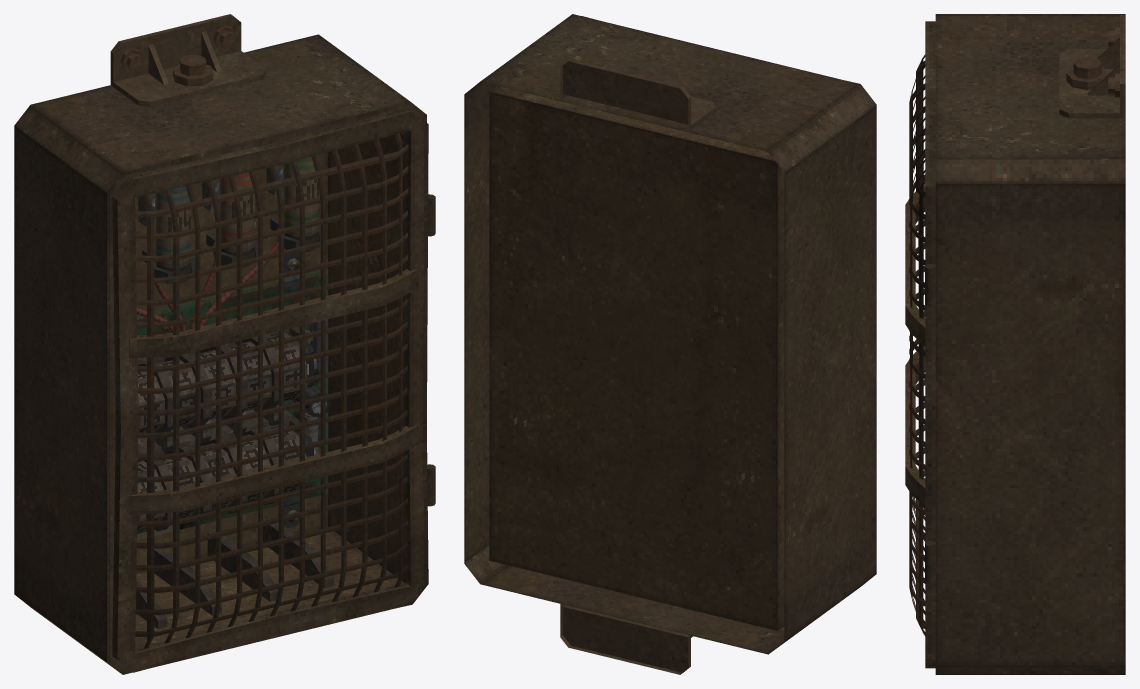
File: fuse_box_etx_1_1.glb
The picture shows the model from 3 angles, left to right: view 1: azimuth 30°, elevation 25°; view 2: azimuth 150°, elevation 25°; view 3: azimuth 270°, elevation 25°; orthographic projection. The views are drawn at different scales.
Parts seen in each view (by area): view 1: fuse_box_etx_1_1, fuse_box_etx_1_1_door, fuse_etx_blue_1, fuse_etx_green_1, fuse_etx_red_1, fuse_box_etx_1_1_puzzle_piece_child; view 2: fuse_box_etx_1_1; view 3: fuse_box_etx_1_1, fuse_box_etx_1_1_door.
Part boxes in pixels (box(x1,y1,x2,y2)): fuse_box_etx_1_1: box(14, 14, 426, 674); fuse_box_etx_1_1_door: box(112, 107, 435, 672); fuse_etx_blue_1: box(155, 186, 190, 283); fuse_etx_green_1: box(283, 155, 318, 252); fuse_etx_red_1: box(219, 171, 254, 268); fuse_box_etx_1_1_puzzle_piece_child: box(137, 371, 164, 432); fuse_box_etx_1_1: box(464, 14, 876, 674); fuse_box_etx_1_1: box(935, 14, 1125, 674); fuse_box_etx_1_1_door: box(905, 21, 935, 668).
Size of the model in its own units: 0.548 by 0.945 by 0.3135.
2 materials, 2 textured.
